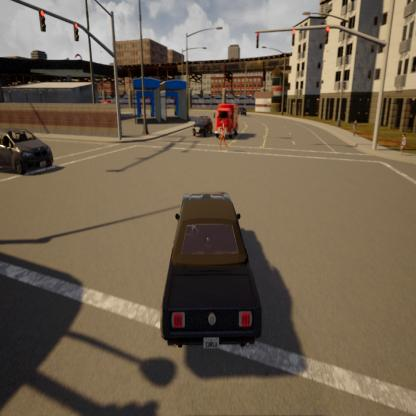Cars: (160, 179, 269, 364), (0, 118, 63, 173), (215, 101, 237, 137), (194, 115, 214, 137), (238, 105, 250, 118)
Pedestrian: (219, 120, 228, 147)
